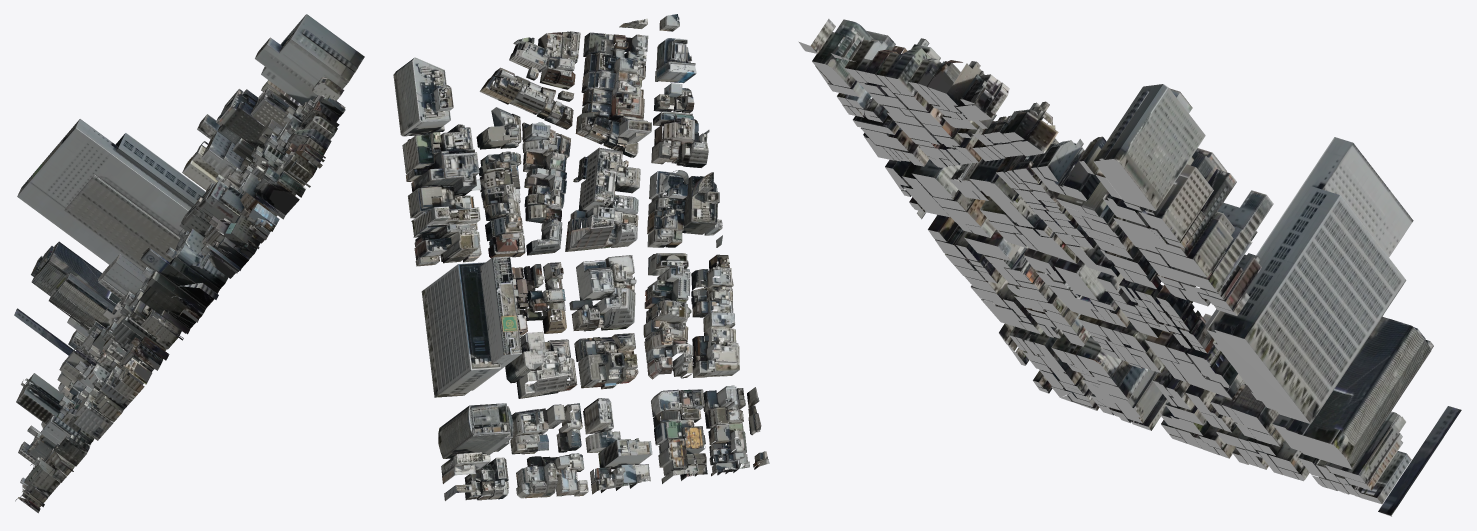
The model's file is 19766_bldg_Building.glb.
The picture shows the model from 3 angles, left to right: view 1: azimuth 30°, elevation 25°; view 2: azimuth 150°, elevation 25°; view 3: azimuth 270°, elevation 25°; orthographic projection. The views are drawn at different scales.
Visible parts, largest first — view 1: Mesh_0; view 2: Mesh_0; view 3: Mesh_0.
Boxes of the visible parts, x1,y1,x2,y2 form: Mesh_0: (14, 14, 364, 513); Mesh_0: (393, 14, 769, 500); Mesh_0: (798, 18, 1461, 516).
Size of the model in its own units: 268 by 268 by 317.
9 materials, 8 textured.
